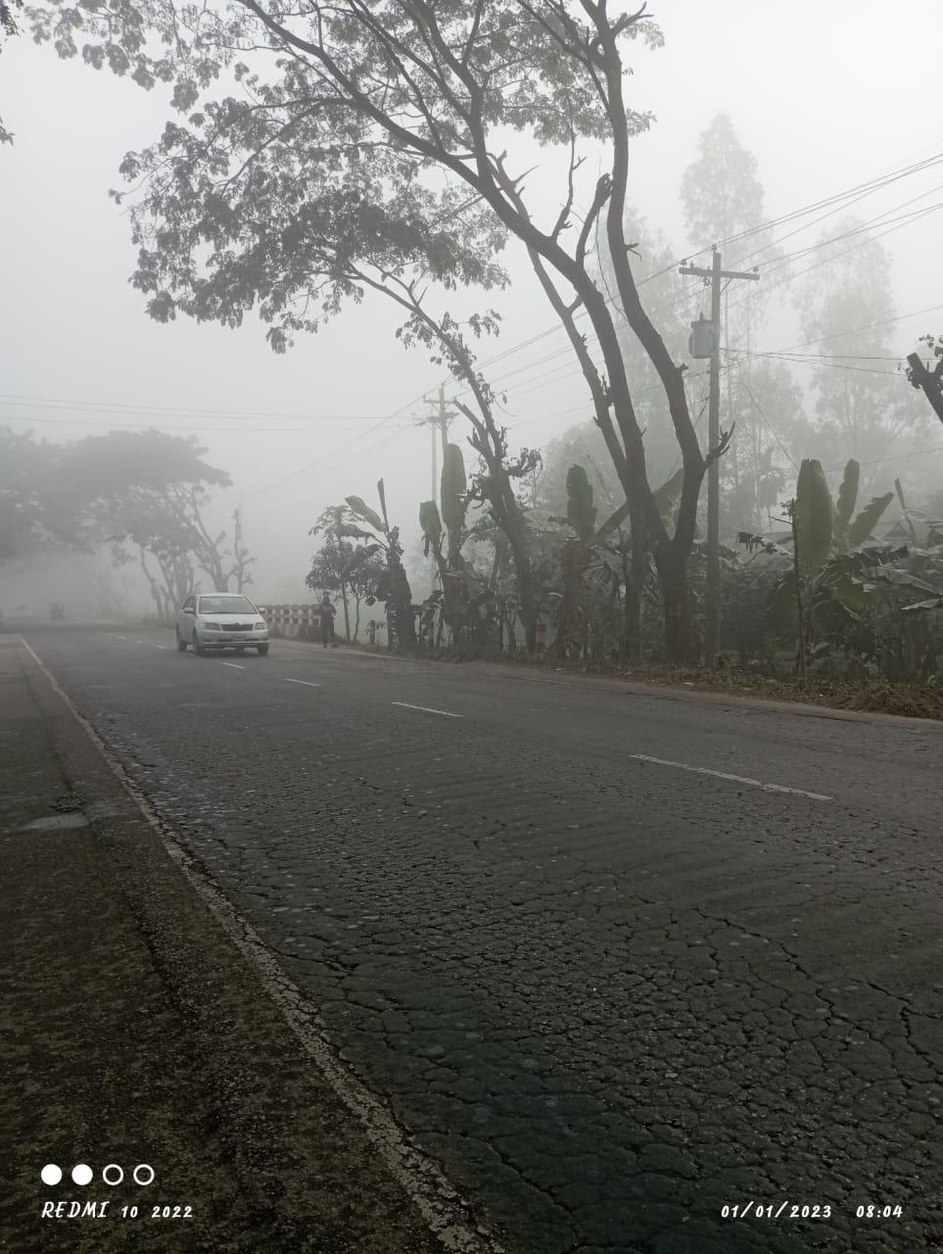Car: (149, 583, 287, 665)
